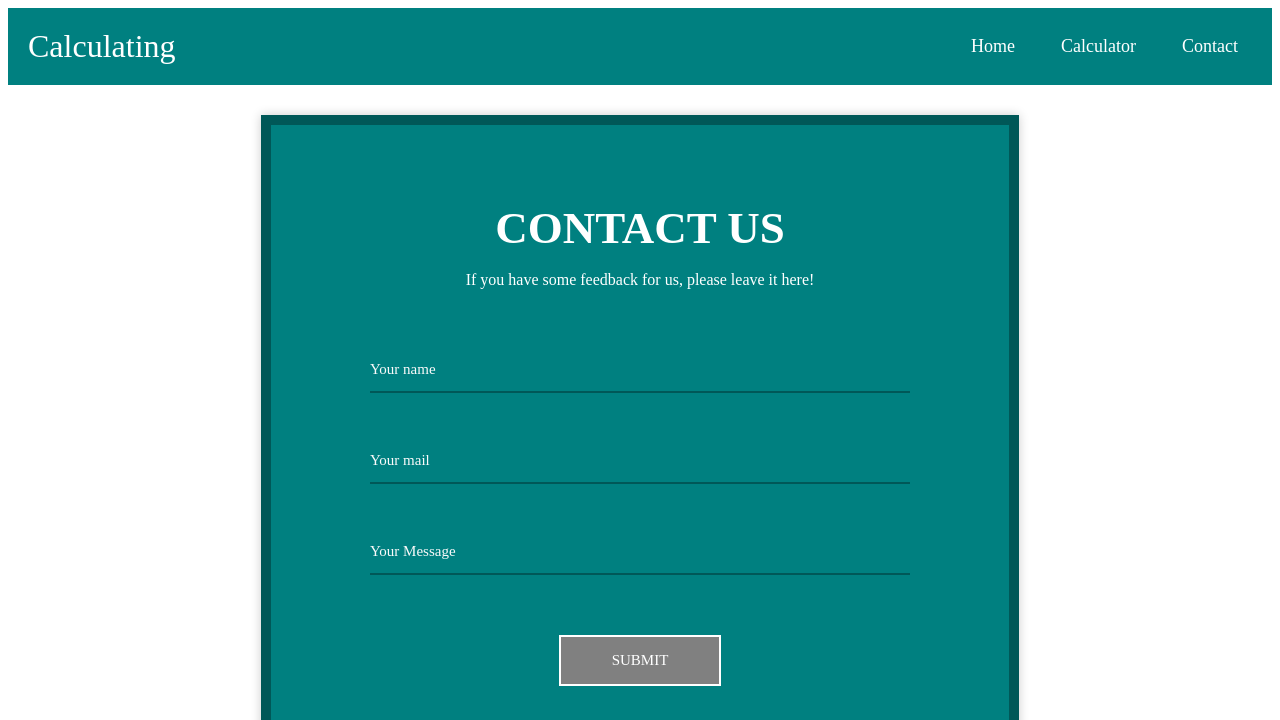
Test: Contact Form › Submits the form with valid data and receives a success message
This screenshot has width=1280, height=720.
Type "John" into the field labelled "Your name".
click(640, 372); type("John")  # box [370,350,910,393]
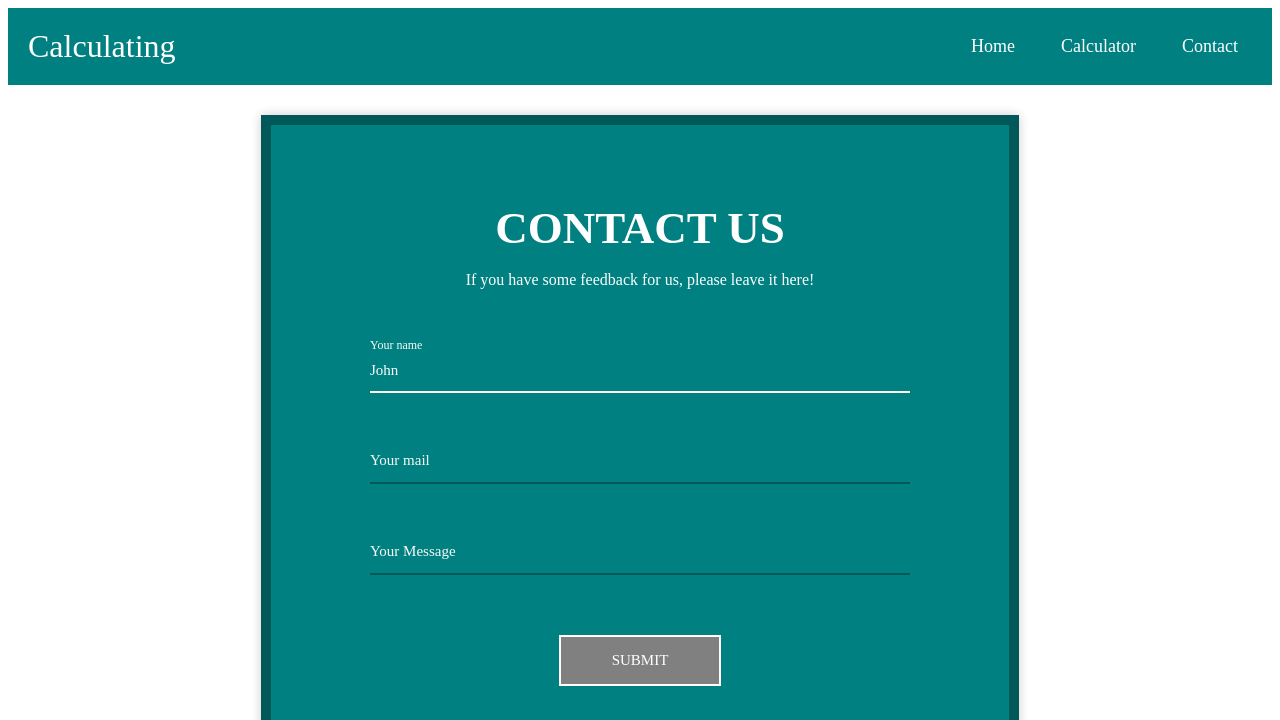
Type "john.doe@example.com" into the field labelled "Your mail".
click(640, 463); type("john.doe@example.com")  # box [370,441,910,484]
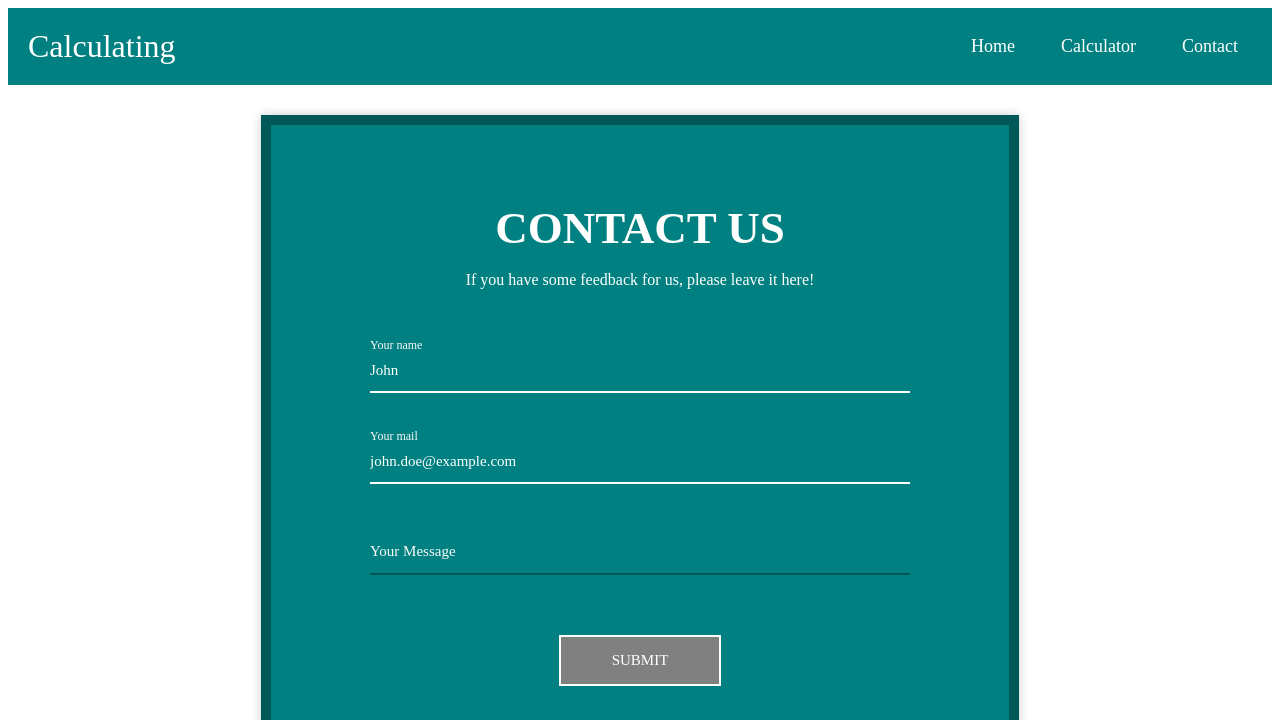
Type "This is a test feedback message" into the text box labelled "Your Message".
click(640, 554); type("This is a test feedback message")  # box [370,532,910,575]
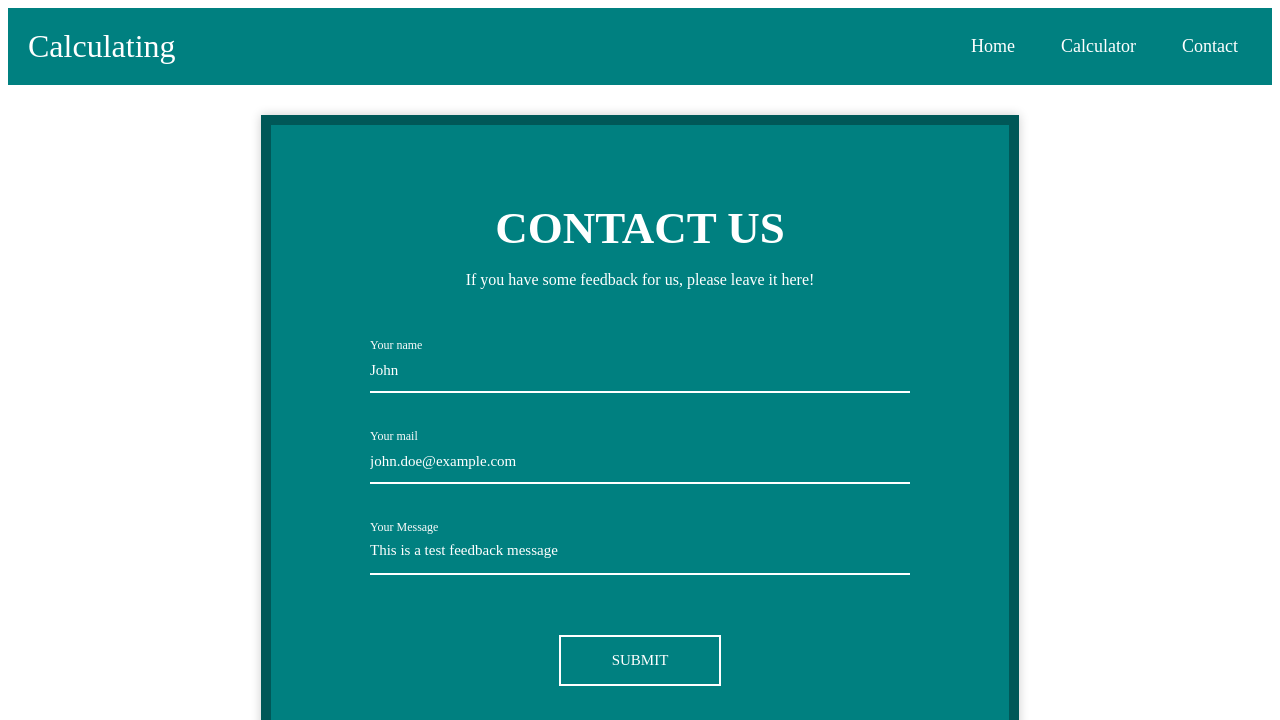
Click the submit button.
click(640, 661)  # box [559,635,721,686]
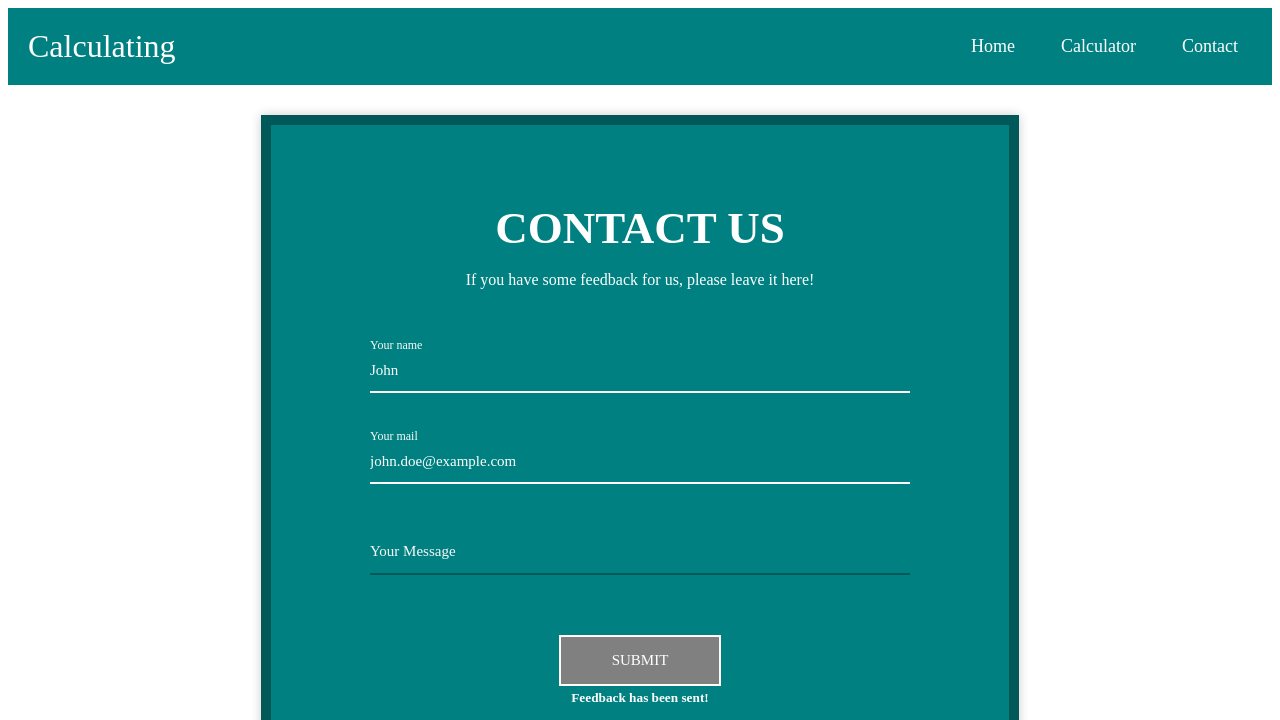
Now the heading "Feedback has been sent!" is shown, box [571,690,709,705]
